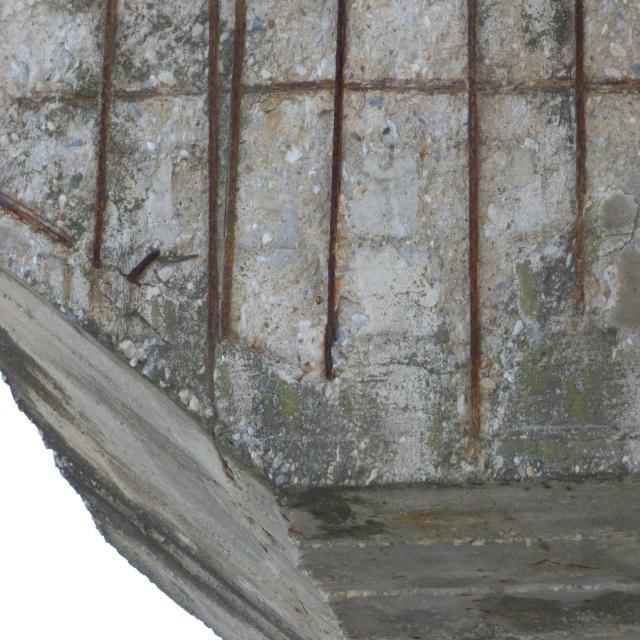corrosion: (0, 0, 640, 453), (378, 501, 544, 544)
